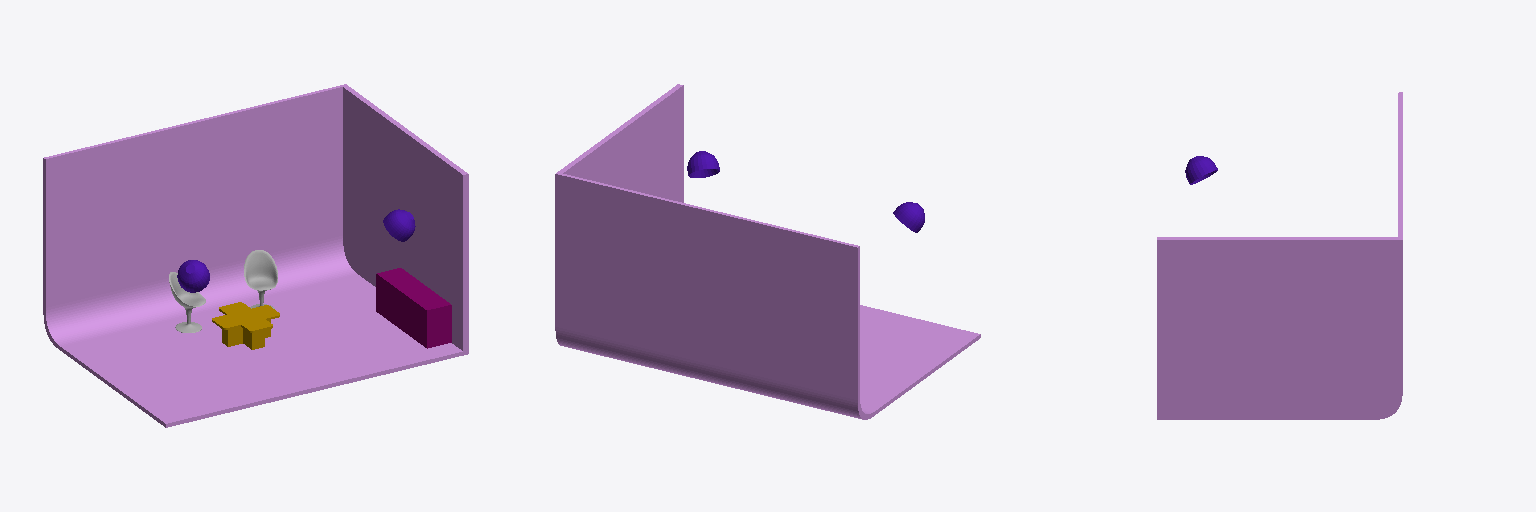
File: cena_arch.obj
3 renders of one model, left to right at view 1: azimuth 30°, elevation 25°; view 2: azimuth 150°, elevation 25°; view 3: azimuth 270°, elevation 25°, orthographic.
Parts seen in each view (by area): view 1: Ground, Table_02, Table_01, Light_01, Chair_01, Chair_02; view 2: Ground, Light_01; view 3: Ground, Light_01.
Part boxes in pixels (x1,y1,x2,y2): Ground: (43,84,468,427); Table_02: (376,268,451,348); Table_01: (212,302,279,349); Light_01: (177,209,415,292); Chair_01: (244,250,277,308); Chair_02: (169,272,205,332); Ground: (555,84,980,419); Light_01: (687,151,924,232); Ground: (1157,92,1402,419); Light_01: (1185,156,1217,184).
Bounding box in the file's own units: 3.89 × 2.22 × 2.74.